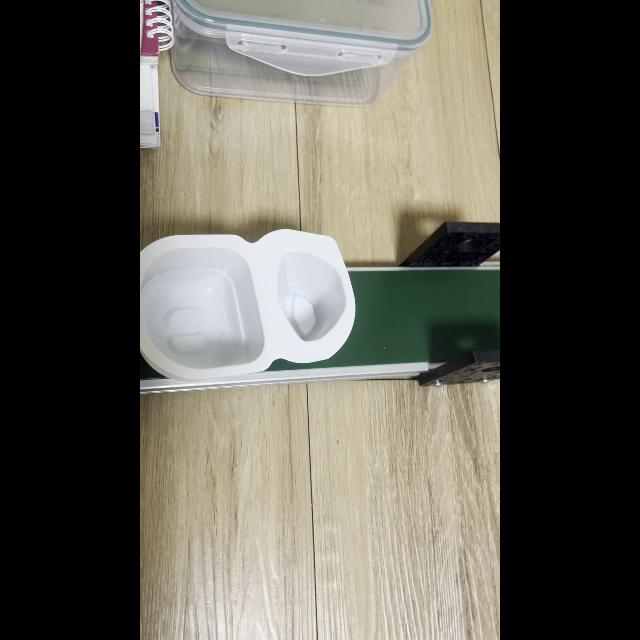clean: (141, 230, 355, 380)
